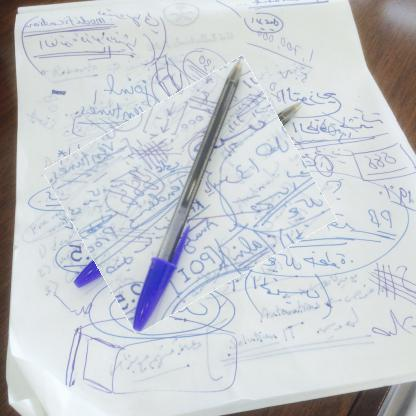Pen: (58, 78, 321, 312)
